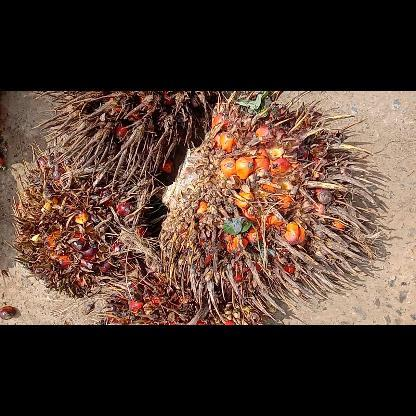Terlalu masak: (154, 90, 394, 322), (9, 145, 160, 299), (26, 90, 226, 172), (94, 254, 270, 324)
